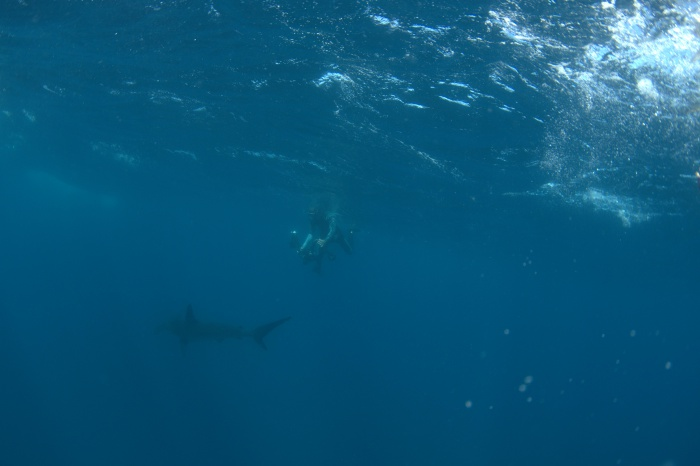Hammer: (135, 296, 317, 367)
